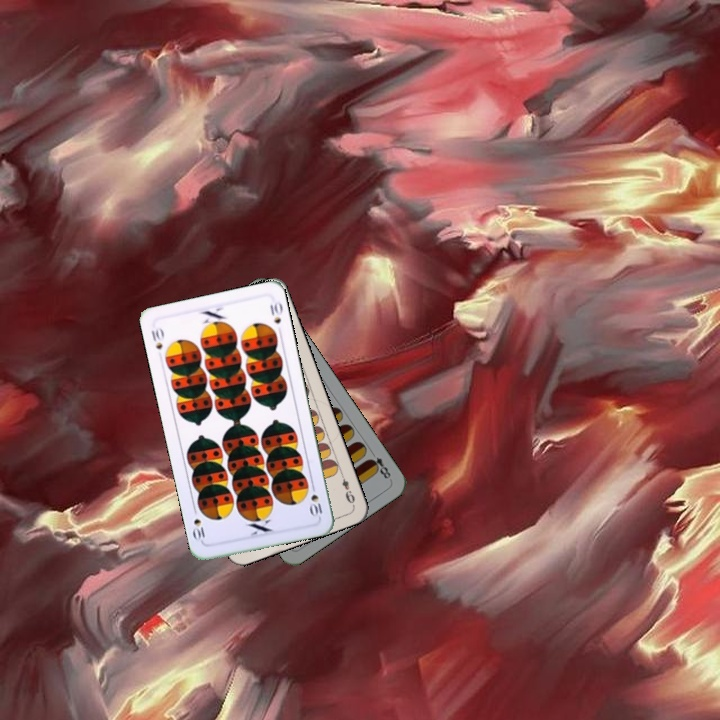E8: (365, 447, 394, 483)
E9: (336, 469, 357, 508)
S10: (307, 480, 325, 520), (147, 323, 167, 352)
